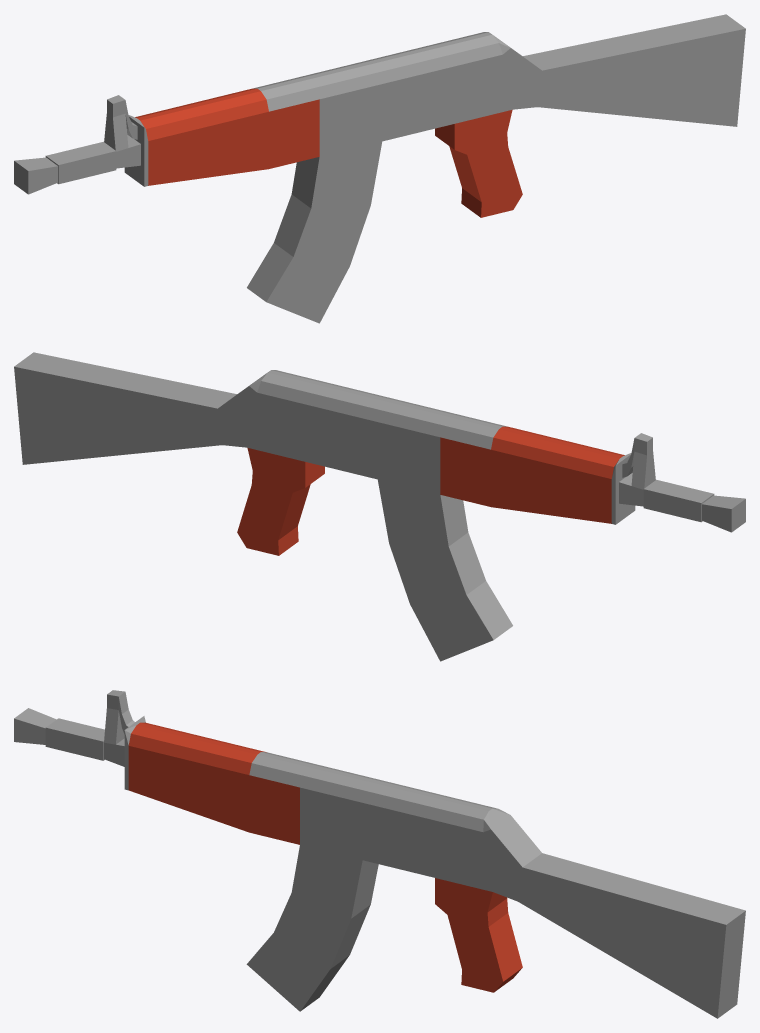
File: gun.obj
3 renders of one model, top to bottom at view 1: azimuth 30°, elevation 25°; view 2: azimuth 150°, elevation 25°; view 3: azimuth 330°, elevation 25°, orthographic.
Visible parts, largest first — view 1: Cube; view 2: Cube; view 3: Cube.
Boxes of the visible parts, x1,y1,x2,y2 form: Cube: (14, 14, 745, 323); Cube: (14, 352, 745, 661); Cube: (14, 690, 745, 1018).
Bounding box in the file's own units: 9.59 × 3.39 × 0.4563.
